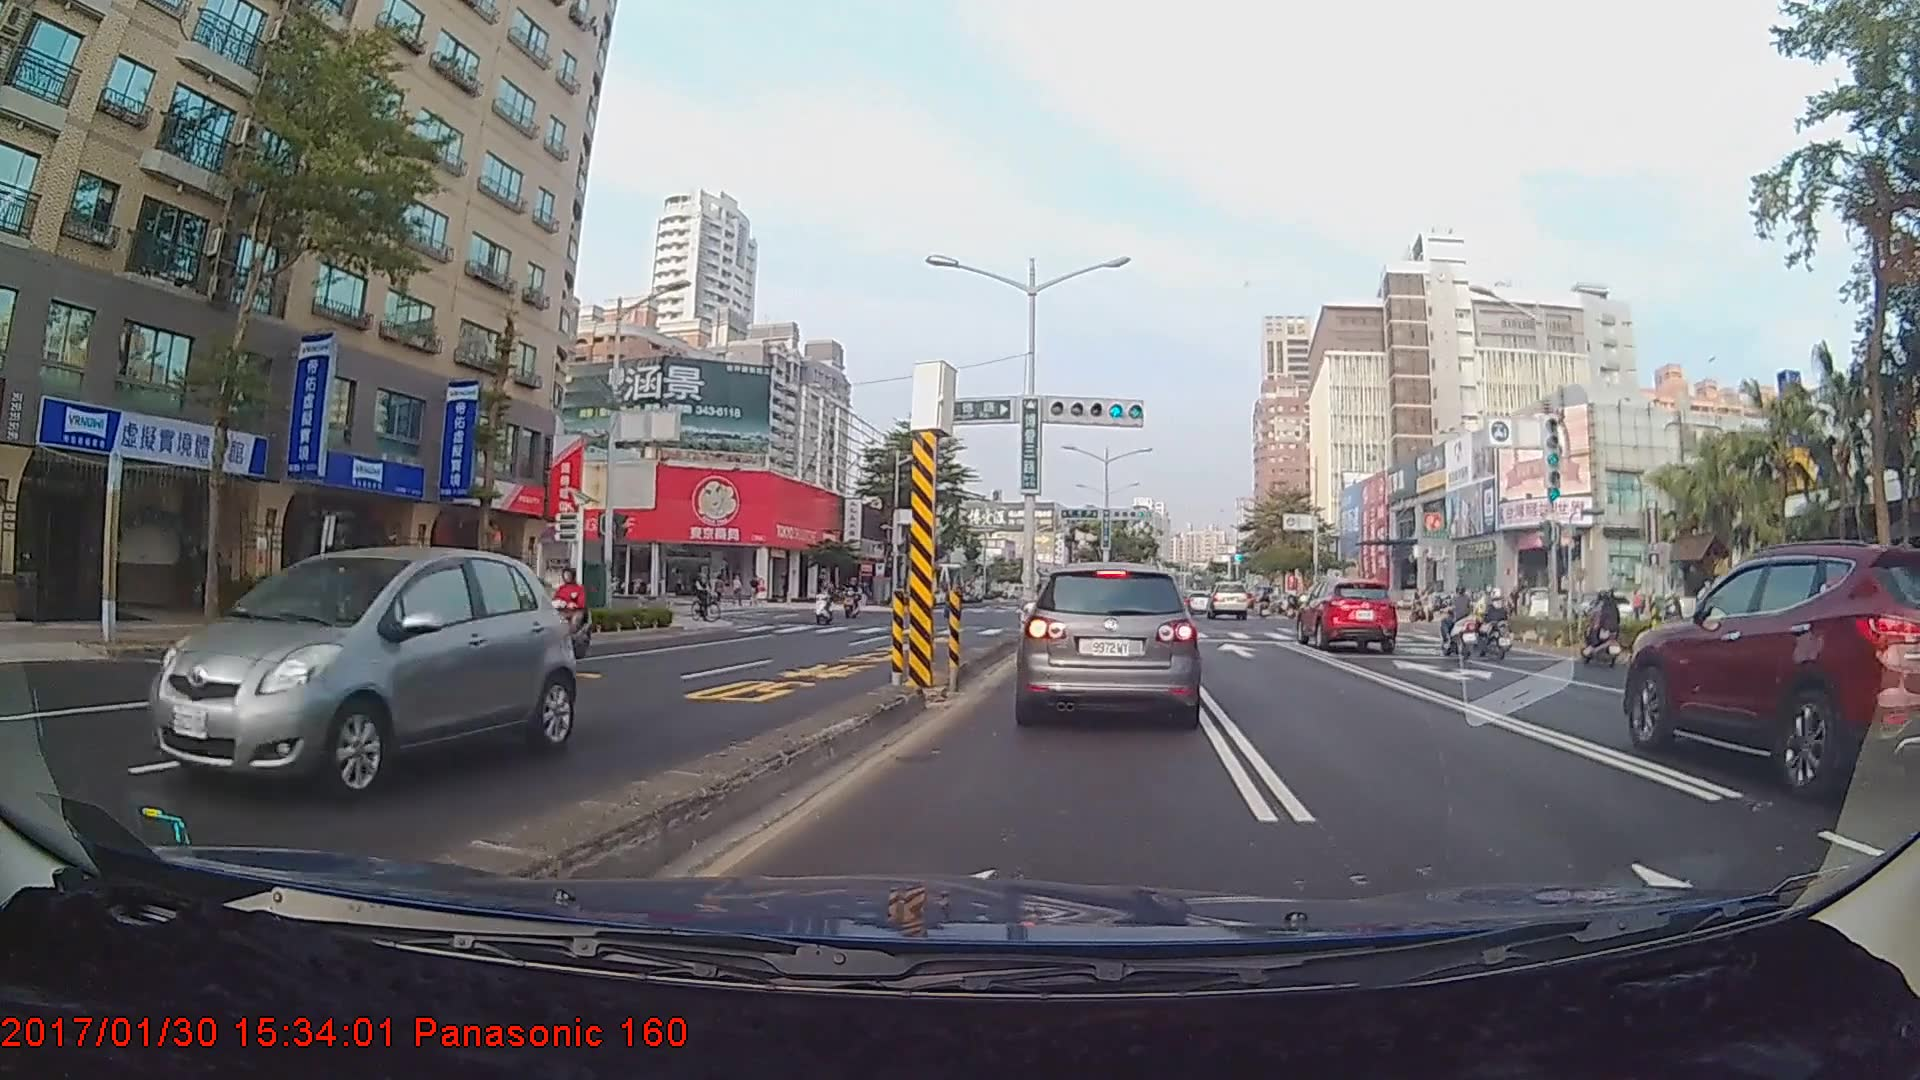rider: (1580, 590, 1633, 670), (1433, 584, 1488, 662), (1469, 585, 1520, 664), (680, 566, 720, 622)
vehicle: (149, 543, 573, 806), (1621, 537, 1917, 802), (1022, 559, 1198, 726), (1296, 574, 1400, 651), (1207, 581, 1250, 620)
